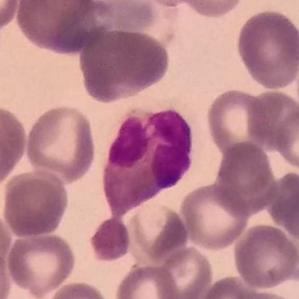Neutrophil: (94, 104, 193, 261)
RBC: (76, 26, 173, 104), (22, 102, 98, 183), (234, 7, 299, 92), (11, 0, 107, 57), (177, 182, 250, 251), (5, 230, 78, 298), (212, 139, 277, 214), (0, 170, 70, 239), (204, 86, 270, 159), (231, 221, 299, 290), (126, 198, 191, 264), (152, 243, 216, 299), (244, 87, 298, 153), (69, 0, 166, 35), (266, 168, 299, 246), (113, 262, 181, 299), (0, 102, 29, 188), (87, 214, 134, 264), (196, 273, 270, 299), (272, 105, 299, 173), (43, 279, 112, 299), (174, 0, 246, 19), (0, 208, 14, 276), (0, 245, 14, 299), (0, 0, 22, 33), (138, 0, 208, 8)
